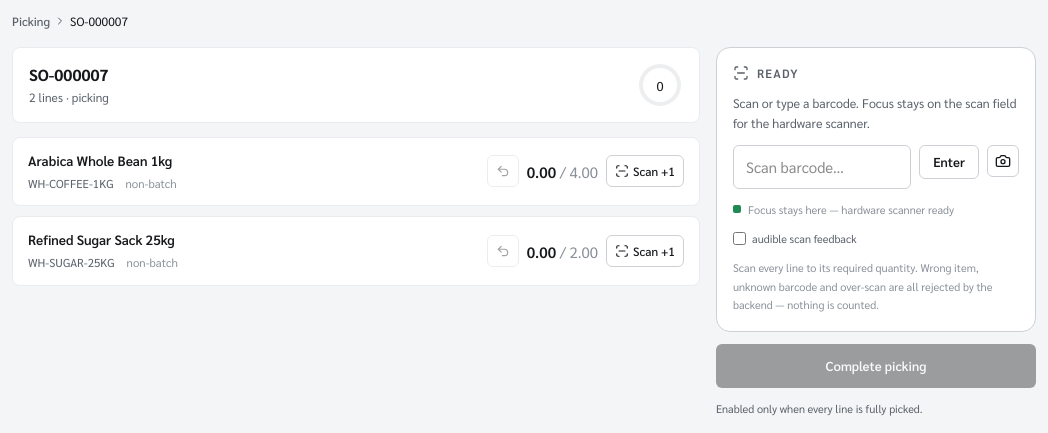
Test case: FulfillmentConsole — wrong item / over-scan › over-scan → Error with the 'exceeds remaining' copy
Type "885000000009" into the field named "Barcode scan input" at coordinates (822, 167), box [733,145,911,189]
Then press Enter
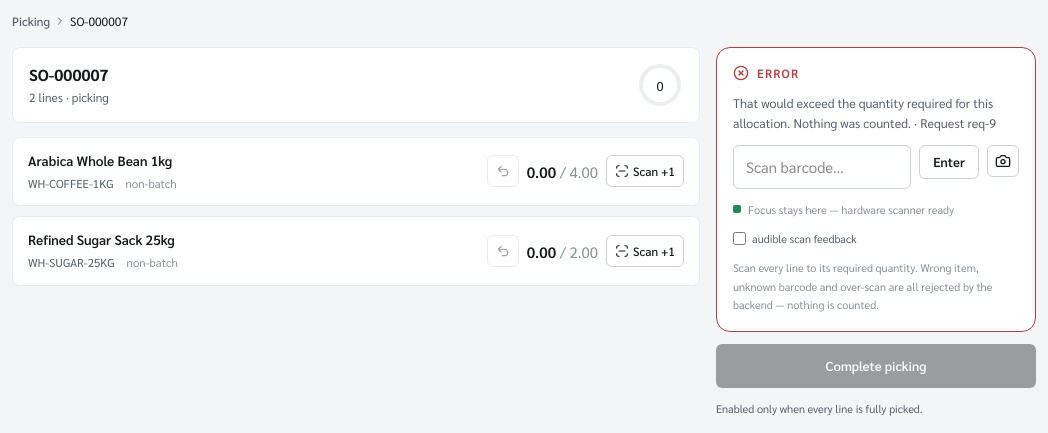
Result: the text "exceed the quantity required" is shown at [733,95,996,131]
